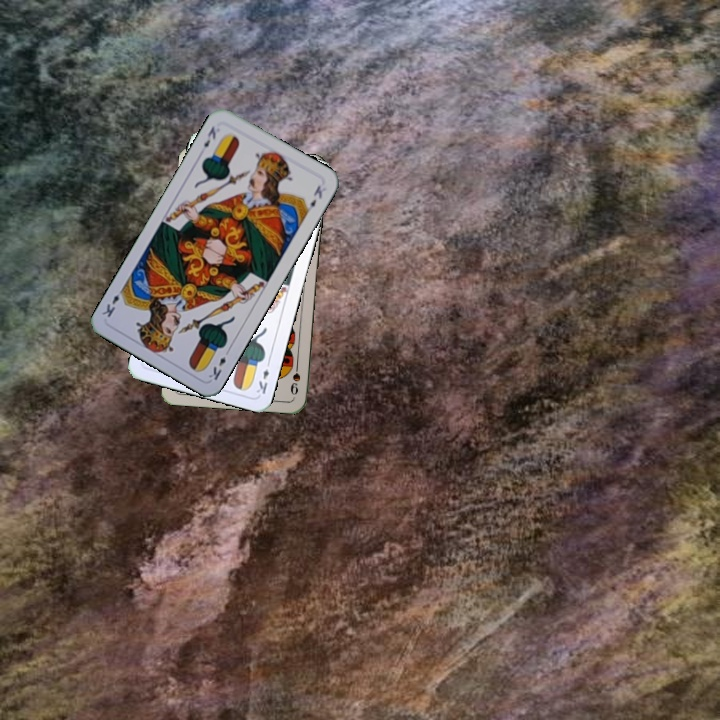EK: (204, 345, 233, 383), (252, 356, 273, 397), (199, 122, 218, 150)
S9: (286, 357, 303, 398)
